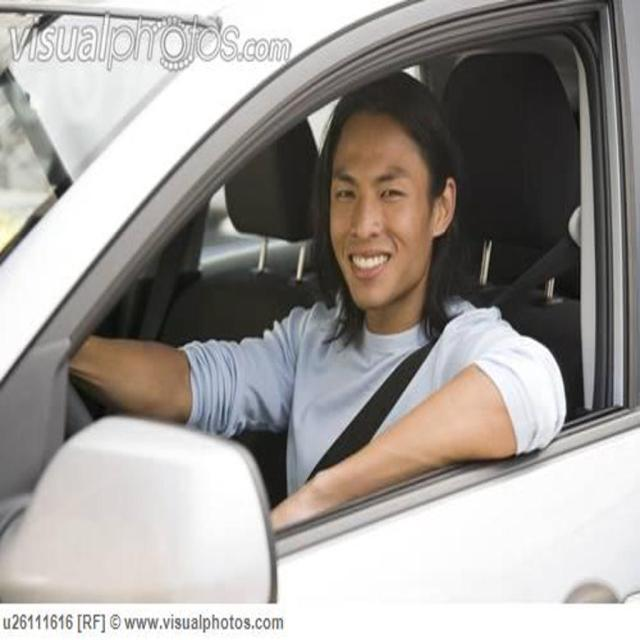Face: (334, 120, 440, 300)
